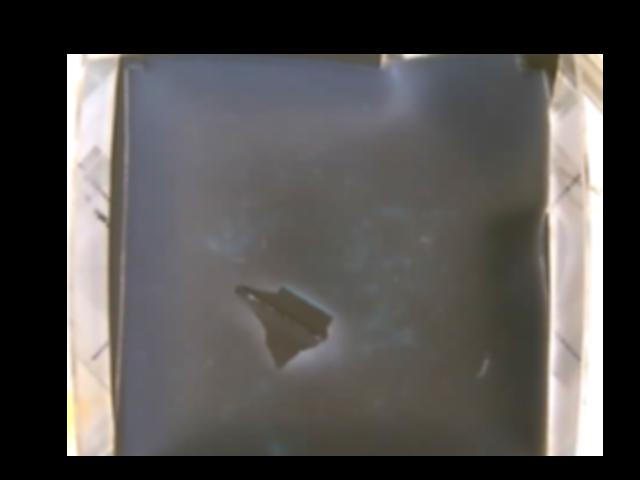China: (235, 280, 334, 367)
